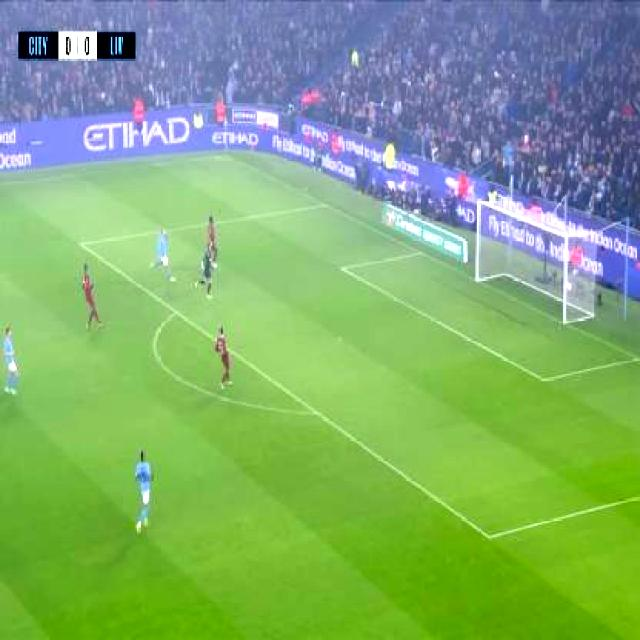bigarea_bottom_inner: (482, 526, 496, 546)
bigarea_top_inner: (74, 235, 86, 252)
bigarea_top_outter: (320, 198, 328, 210)
bottom_arc_area_intersection: (309, 404, 320, 418)
corner: (220, 152, 229, 160)
smallarea_bottom_inner: (535, 368, 551, 389)
smallarea_bottom_outter: (631, 351, 640, 366)
smallarea_top_inner: (336, 260, 346, 275)
smallarea_top_outter: (414, 246, 424, 259)
top_arc_area_intersection: (169, 304, 180, 318)
